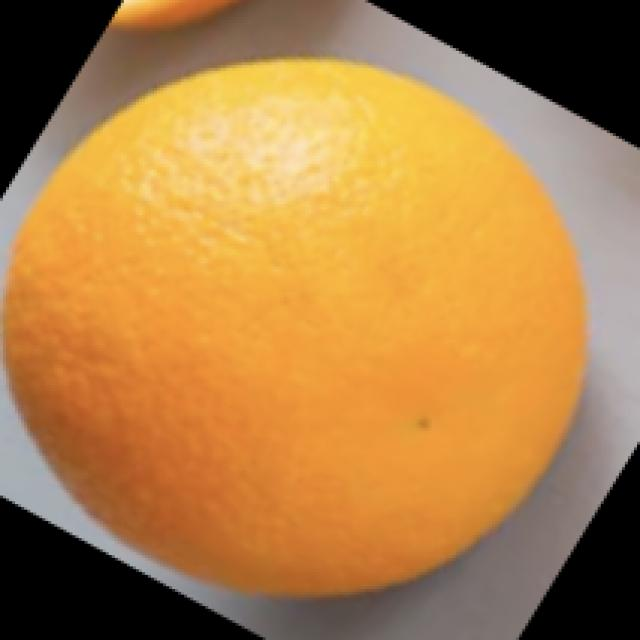fresh: (0, 45, 608, 610)
